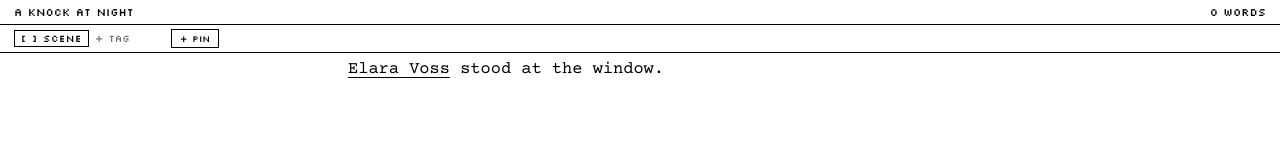
EntityHoverTip › clears a pending or shown tooltip when the document switches
The width and height of the screenshot is (1280, 160).
Hover over the text box "Elara Voss" at coordinates (399, 70), box [348,60,450,79]
Wait 400 ms
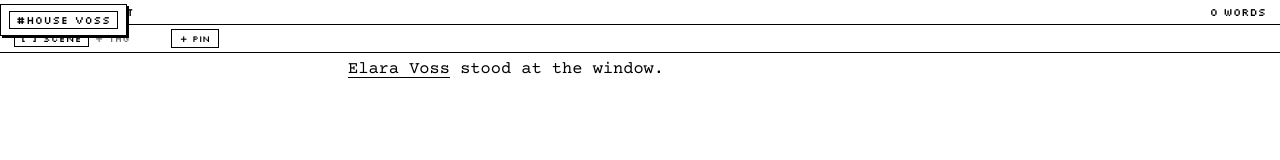
Expected: the element with class "entity-hover-tip" is shown, [0,4,127,36]
